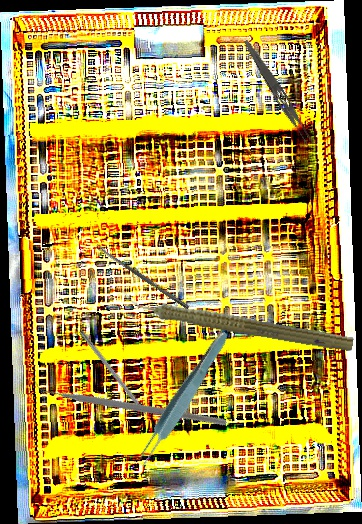Chopper: (30, 313, 228, 487)
Dressing Forceps: (238, 37, 318, 150)
Handpiece: (117, 286, 356, 357)
Hook Surgical: (78, 329, 159, 431)
Surgical Spoon: (95, 243, 190, 310)
Tissue Forceps: (130, 327, 234, 471)
